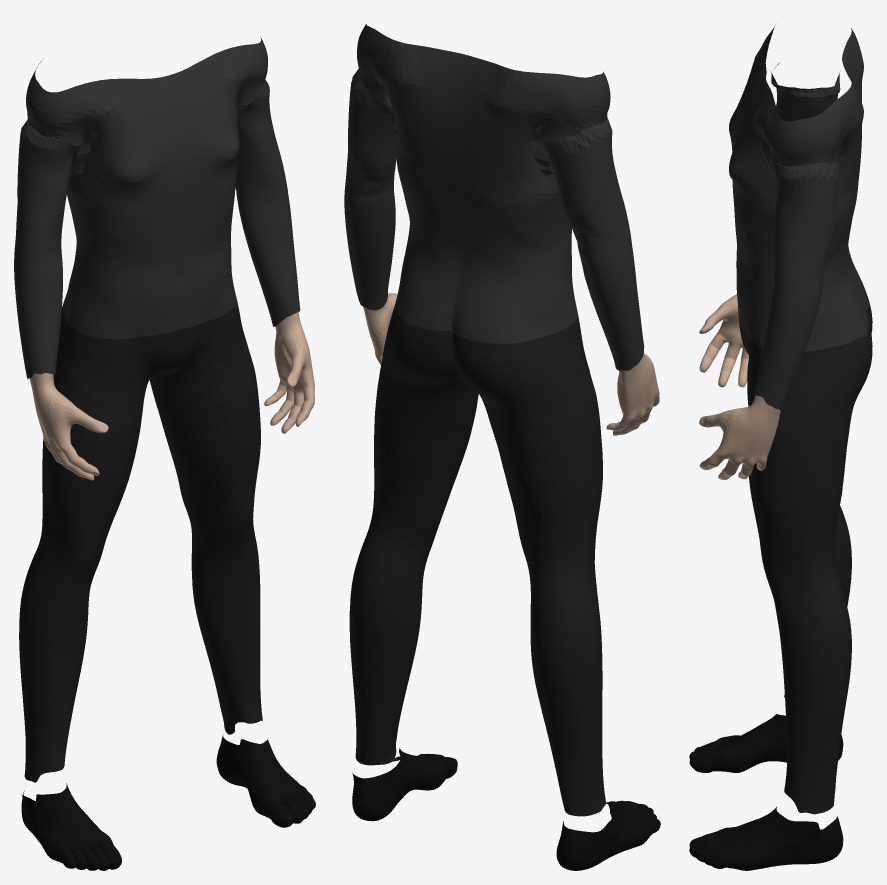
The model's file is hd_m_light_body.glb.
3 views of the same model, side by side, from view 1: azimuth 30°, elevation 25°; view 2: azimuth 150°, elevation 25°; view 3: azimuth 270°, elevation 25° (orthographic). The views are drawn at different scales.
Parts seen in each view (by area): view 1: outfit, shoes, bodyskin; view 2: outfit, shoes, bodyskin; view 3: outfit, shoes, bodyskin.
Boxes of the visible parts, x1,y1,x2,y2 form: outfit: (14,37,300,782); shoes: (21,734,315,870); bodyskin: (29,312,314,480); outfit: (344,24,644,816); shoes: (352,748,660,870); bodyskin: (363,293,659,435); outfit: (729,25,872,814); shoes: (689,714,843,870); bodyskin: (699,294,780,479).
Bounding box in the file's own units: 0.5315 × 1.43 × 0.3132.
